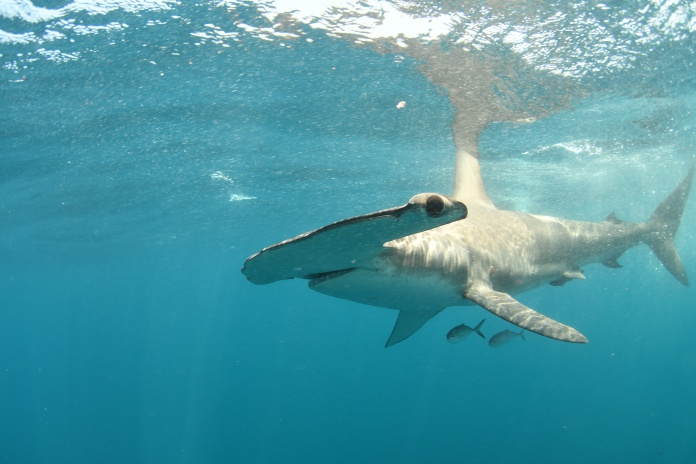Hammer: (239, 132, 696, 362)
